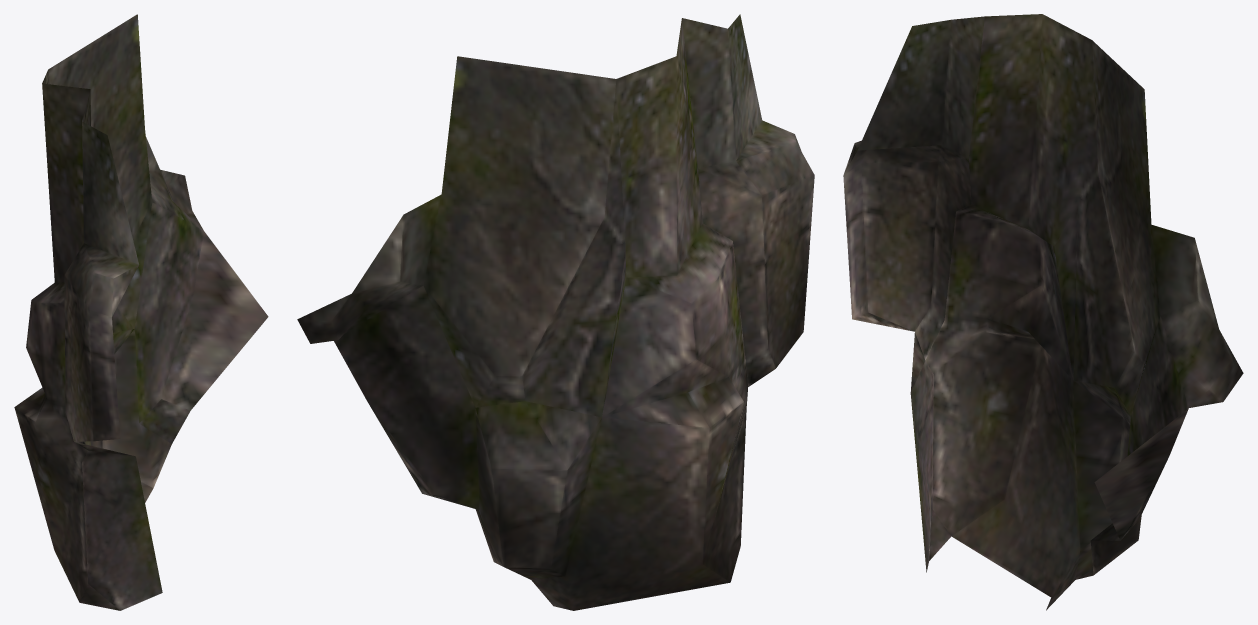
File: S2_Build_XSC077_H2.FBX
3 renders of one model, left to right at view 1: azimuth 30°, elevation 25°; view 2: azimuth 150°, elevation 25°; view 3: azimuth 270°, elevation 25°, orthographic. The views are drawn at different scales.
Parts seen in each view (by area): view 1: S2_Build_XSC077_H2; view 2: S2_Build_XSC077_H2; view 3: S2_Build_XSC077_H2.
Part boxes in pixels (bbox=[...]): S2_Build_XSC077_H2: bbox=[14, 14, 268, 610]; S2_Build_XSC077_H2: bbox=[297, 14, 814, 610]; S2_Build_XSC077_H2: bbox=[843, 14, 1243, 610].
Bounding box in the file's own units: 1055 × 1797 × 1183.
